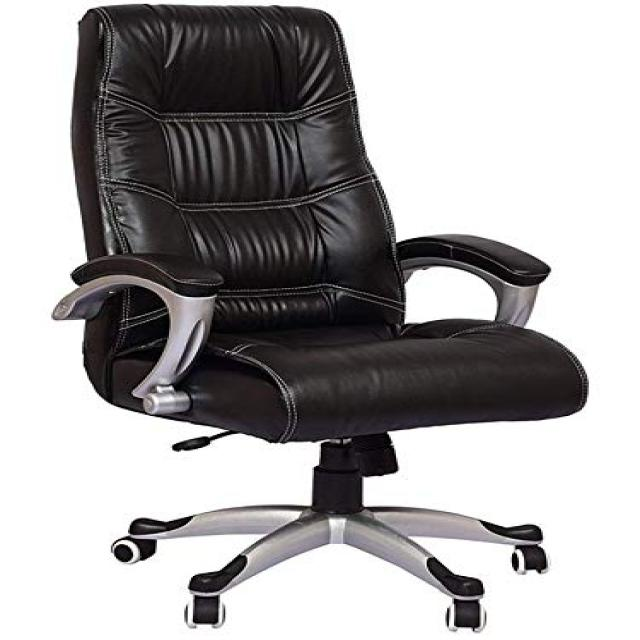obstacle: (37, 16, 579, 631)
